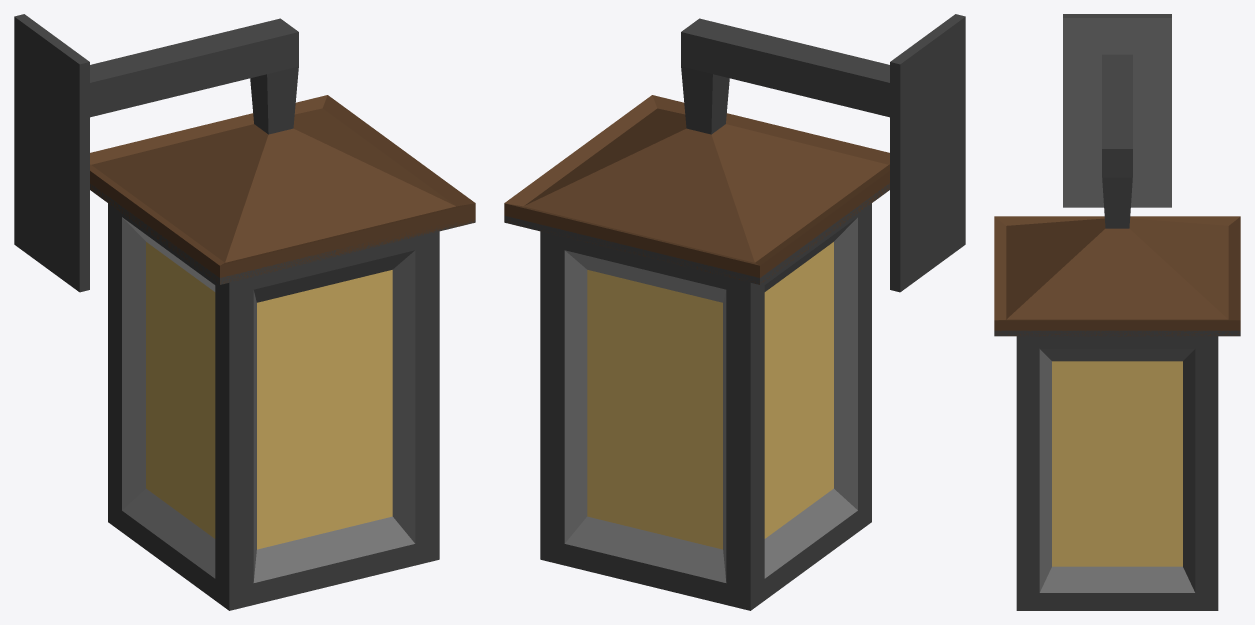
Rendered from Lamp.fbx.
The picture shows the model from 3 angles, left to right: view 1: azimuth 30°, elevation 25°; view 2: azimuth 150°, elevation 25°; view 3: azimuth 270°, elevation 25°; orthographic projection. The views are drawn at different scales.
Visible parts, largest first — view 1: Cube; view 2: Cube; view 3: Cube.
Part boxes in pixels (left/top/right/bottom): Cube: left=14, top=14, right=475, bottom=610; Cube: left=504, top=14, right=965, bottom=610; Cube: left=994, top=14, right=1240, bottom=610.
Size of the model in its own units: 264 by 395 by 191.
